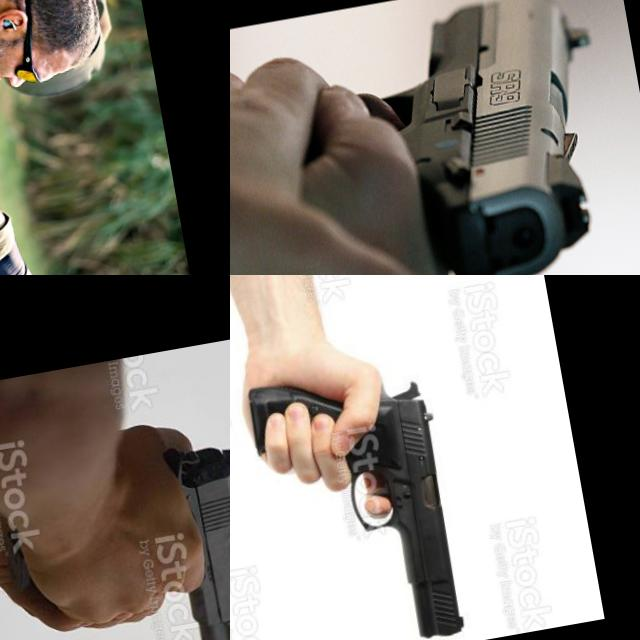handgun: (263, 0, 640, 275), (241, 354, 473, 640), (0, 430, 230, 640)
